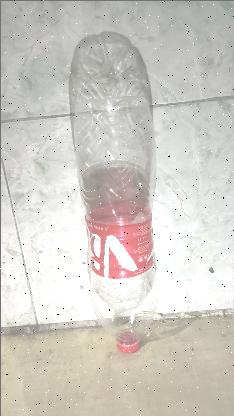Plastic Bottle: (72, 92, 158, 354)
